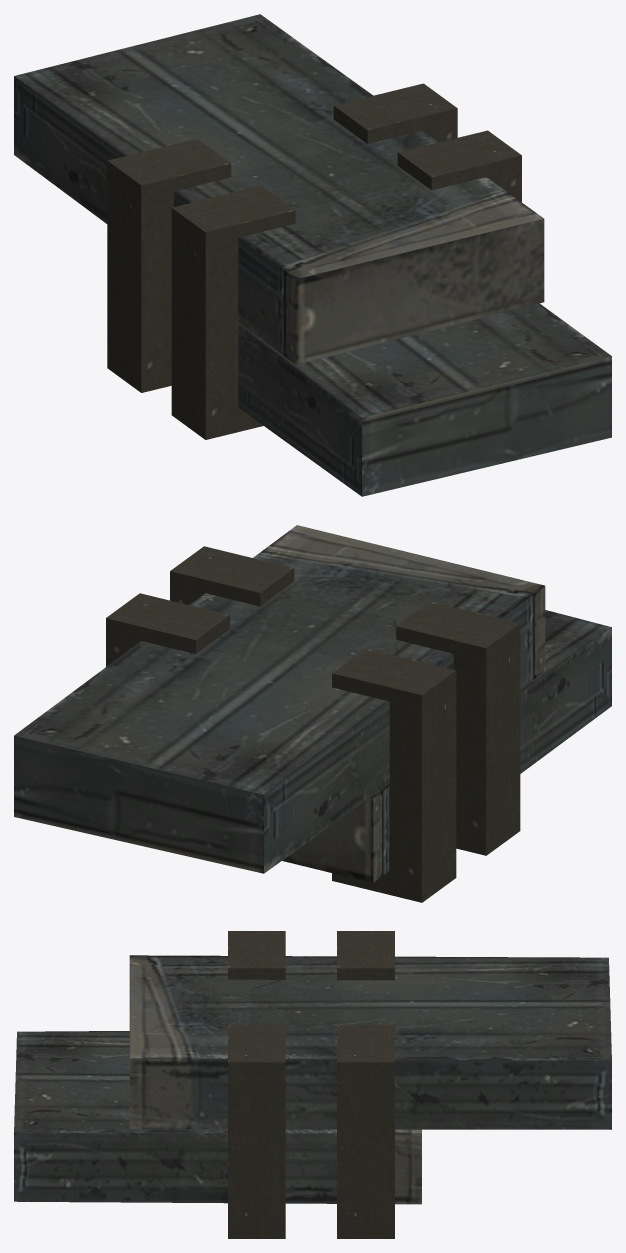
Rendered from t6_attach_fastmag_scar_world_LOD1.obj.
The picture shows the model from 3 angles, top to bottom: view 1: azimuth 30°, elevation 25°; view 2: azimuth 150°, elevation 25°; view 3: azimuth 270°, elevation 25°; orthographic projection. The views are drawn at different scales.
Visible parts, largest first — view 1: mtl_t6_wpn_ar_scarh_camo1; view 2: mtl_t6_wpn_ar_scarh_camo1; view 3: mtl_t6_wpn_ar_scarh_camo1.
Boxes of the visible parts, box(x1,y1,x2,y2) form: mtl_t6_wpn_ar_scarh_camo1: box(14, 14, 611, 496); mtl_t6_wpn_ar_scarh_camo1: box(14, 525, 611, 902); mtl_t6_wpn_ar_scarh_camo1: box(14, 931, 611, 1238).
Size of the model in its own units: 10.06 by 6.31 by 19.38.
